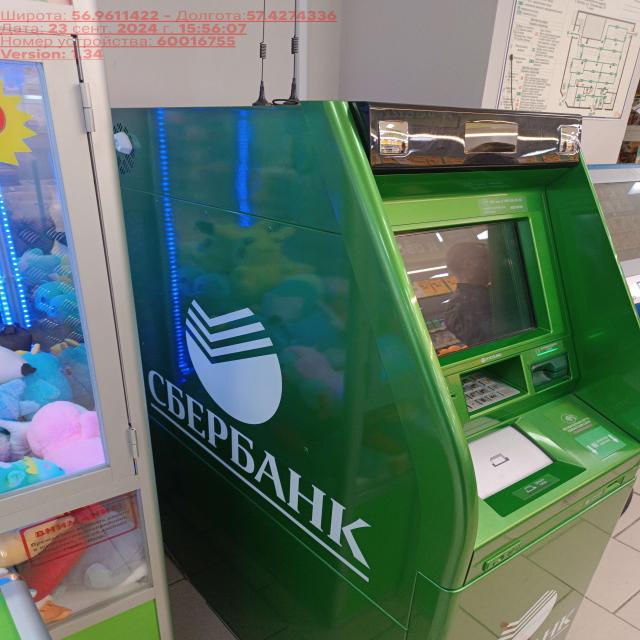bank: (94, 102, 640, 640)
